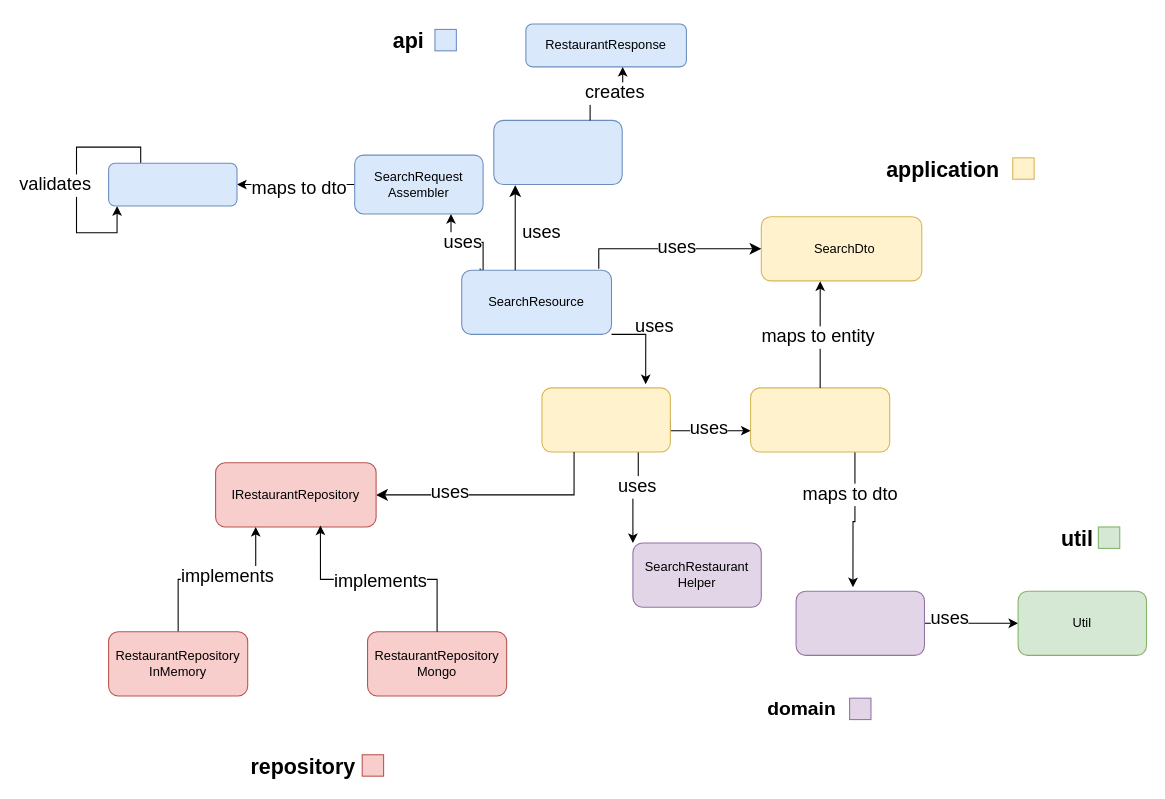
The diagram is 1165 pixels wide and 799 high, and some of its shapes have lost their labels. Here are the shapes that lost their labels. From the top down, the centre of each, then its label:
(x=557, y=152): RestaurantResponse Assembler
(x=172, y=184): SearchRequest
(x=605, y=419): R estaurantService
(x=820, y=419): SearchAssembler
(x=859, y=622): Search
